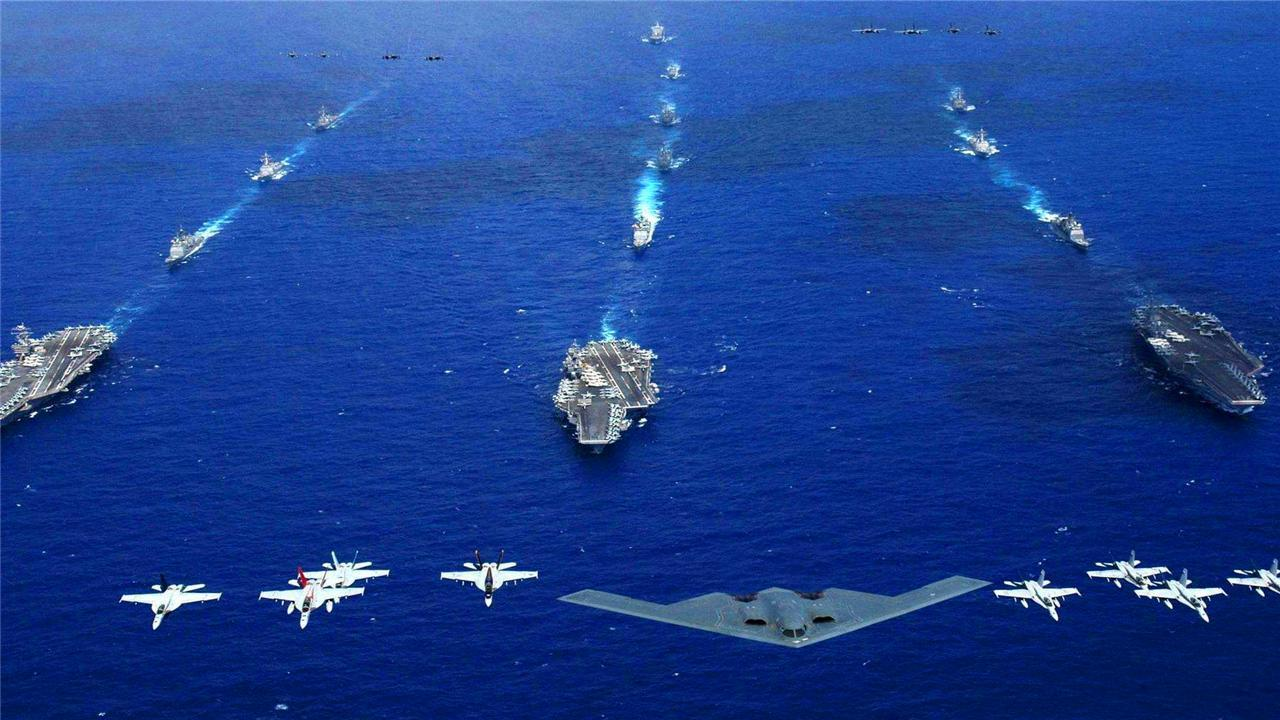airplane: (552, 561, 994, 651), (257, 568, 366, 629), (439, 554, 541, 611), (117, 575, 225, 628), (989, 571, 1082, 627), (1140, 572, 1228, 631), (293, 555, 391, 594), (1091, 556, 1167, 595)
warship: (1125, 289, 1280, 416), (555, 332, 661, 462), (1, 311, 114, 426), (161, 222, 210, 267), (1050, 210, 1097, 255), (624, 209, 657, 254), (244, 151, 287, 183)
